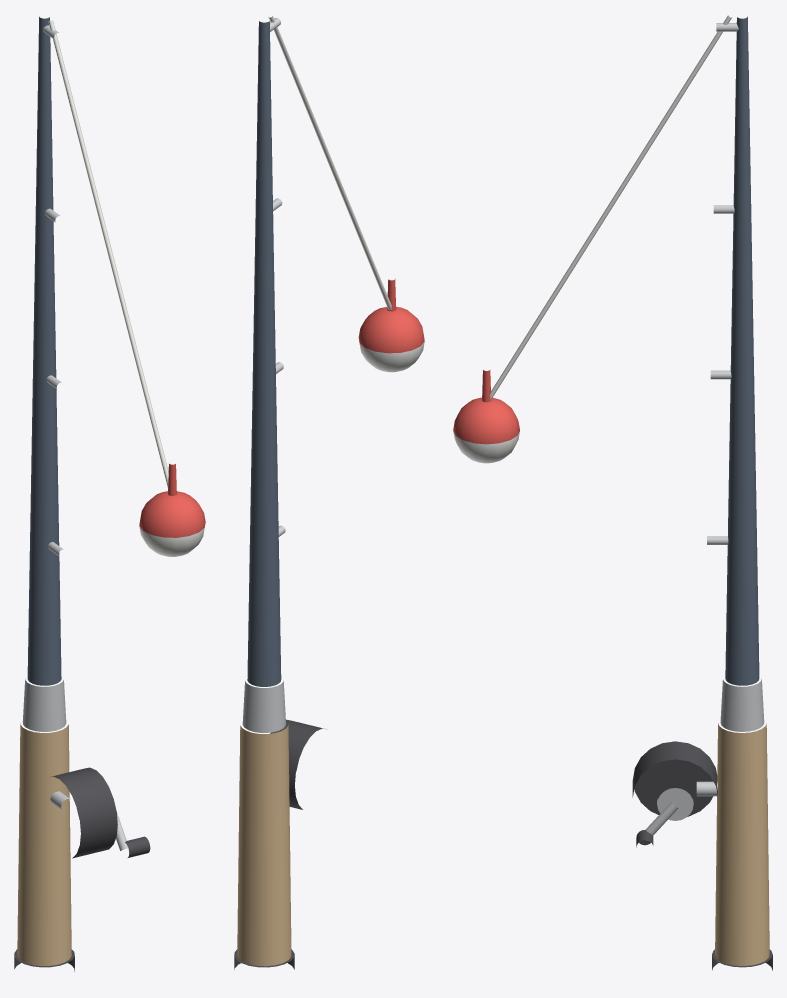
Rendered from wedka.glb.
3 views of the same model, side by side, from view 1: azimuth 30°, elevation 25°; view 2: azimuth 150°, elevation 25°; view 3: azimuth 270°, elevation 25° (orthographic).
Parts seen in each view (by area): view 1: wedka; view 2: wedka; view 3: wedka.
Boxes of the visible parts, box(x1,y1,x2,y2) form: wedka: box(14, 16, 205, 971); wedka: box(234, 16, 424, 969); wedka: box(453, 15, 772, 970).
Size of the model in its own units: 0.155 by 1.73 by 0.525.
